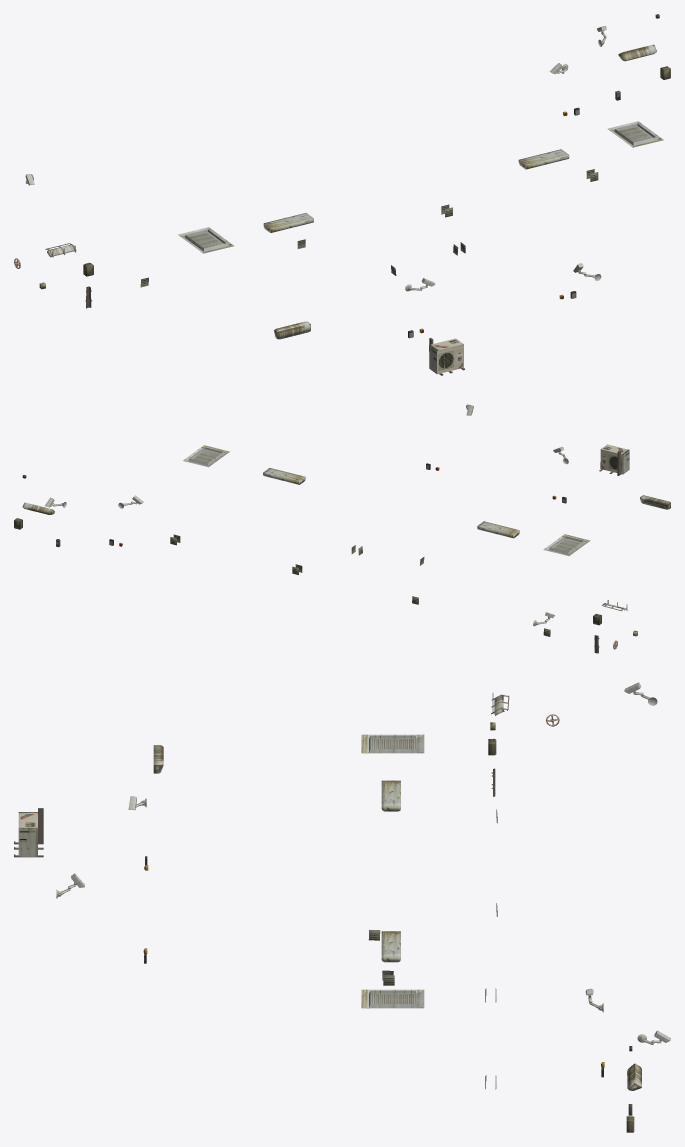
The model's file is Corridor_00_09.fbx.
The picture shows the model from 3 angles, top to bottom: view 1: azimuth 30°, elevation 25°; view 2: azimuth 150°, elevation 25°; view 3: azimuth 270°, elevation 25°; orthographic projection. The views are drawn at different scales.
Visible parts, largest first — view 1: Corridor_00_09; view 2: Corridor_00_09; view 3: Corridor_00_09.
Boxes of the visible parts, x1,y1,x2,y2 form: Corridor_00_09: [14, 14, 670, 375]; Corridor_00_09: [14, 404, 670, 653]; Corridor_00_09: [14, 682, 670, 1132].
Bounding box in the file's own units: 3640 × 506 × 2466.
